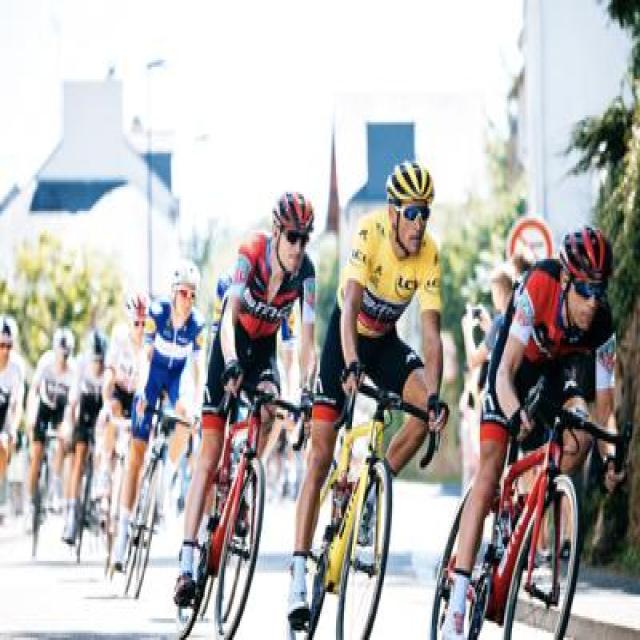Helmet: (555, 218, 618, 331), (378, 146, 442, 257), (269, 182, 317, 288), (166, 254, 204, 321), (80, 321, 115, 381)
